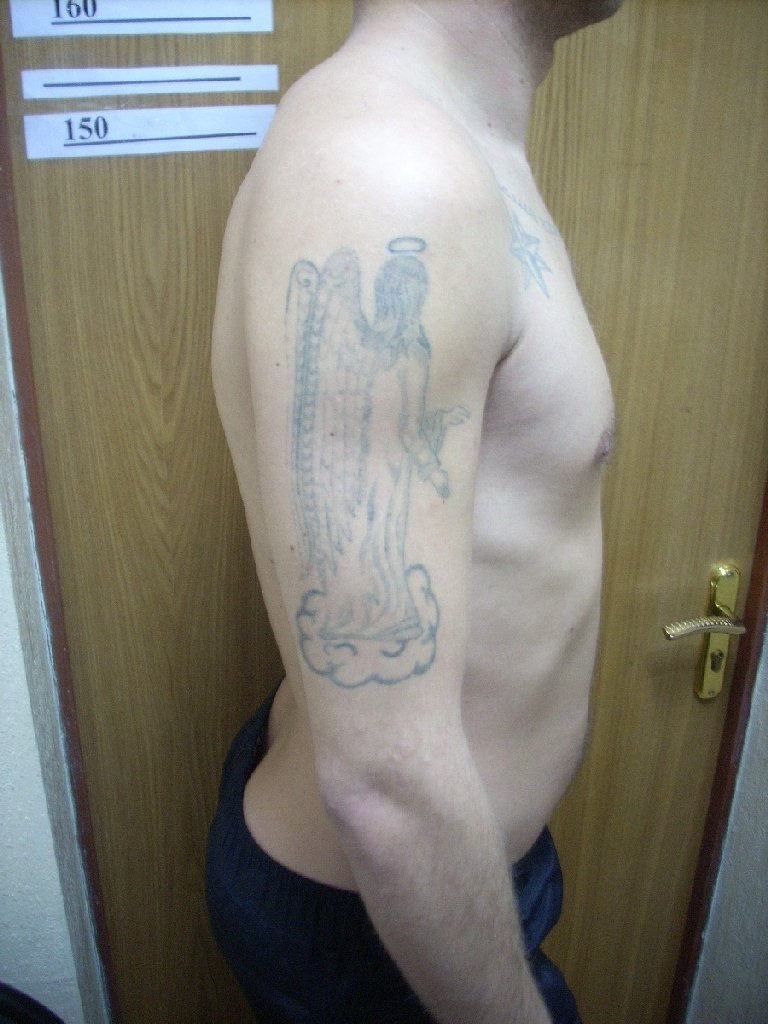tatu1_angel: (268, 199, 468, 641)
